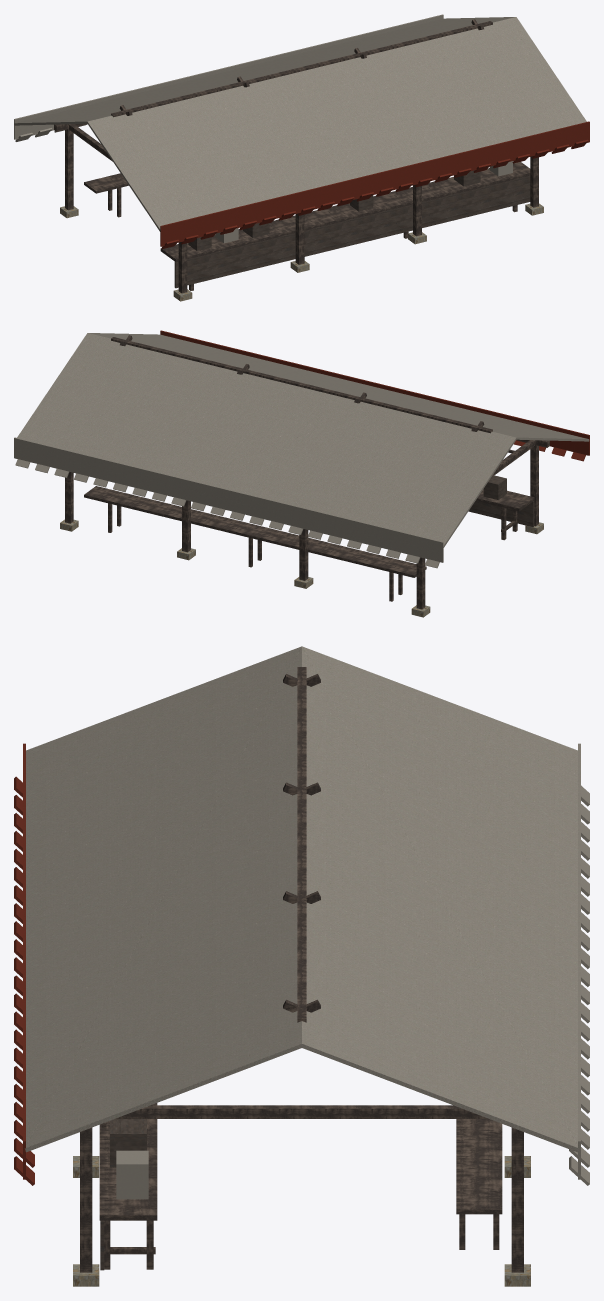
Rendered from prop_market_v2.glb.
The picture shows the model from 3 angles, top to bottom: view 1: azimuth 30°, elevation 25°; view 2: azimuth 150°, elevation 25°; view 3: azimuth 270°, elevation 25°; orthographic projection. The views are drawn at different scales.
Parts seen in each view (by area): view 1: building_market_v2; view 2: building_market_v2; view 3: building_market_v2.
Part boxes in pixels (x1,y1,x2,y2): building_market_v2: [14, 14, 589, 301]; building_market_v2: [14, 330, 589, 617]; building_market_v2: [14, 646, 589, 1286].
Bounding box in the file's own units: 12.2 × 4.01 × 7.47.
Materials: 5 (5 with a texture image).
